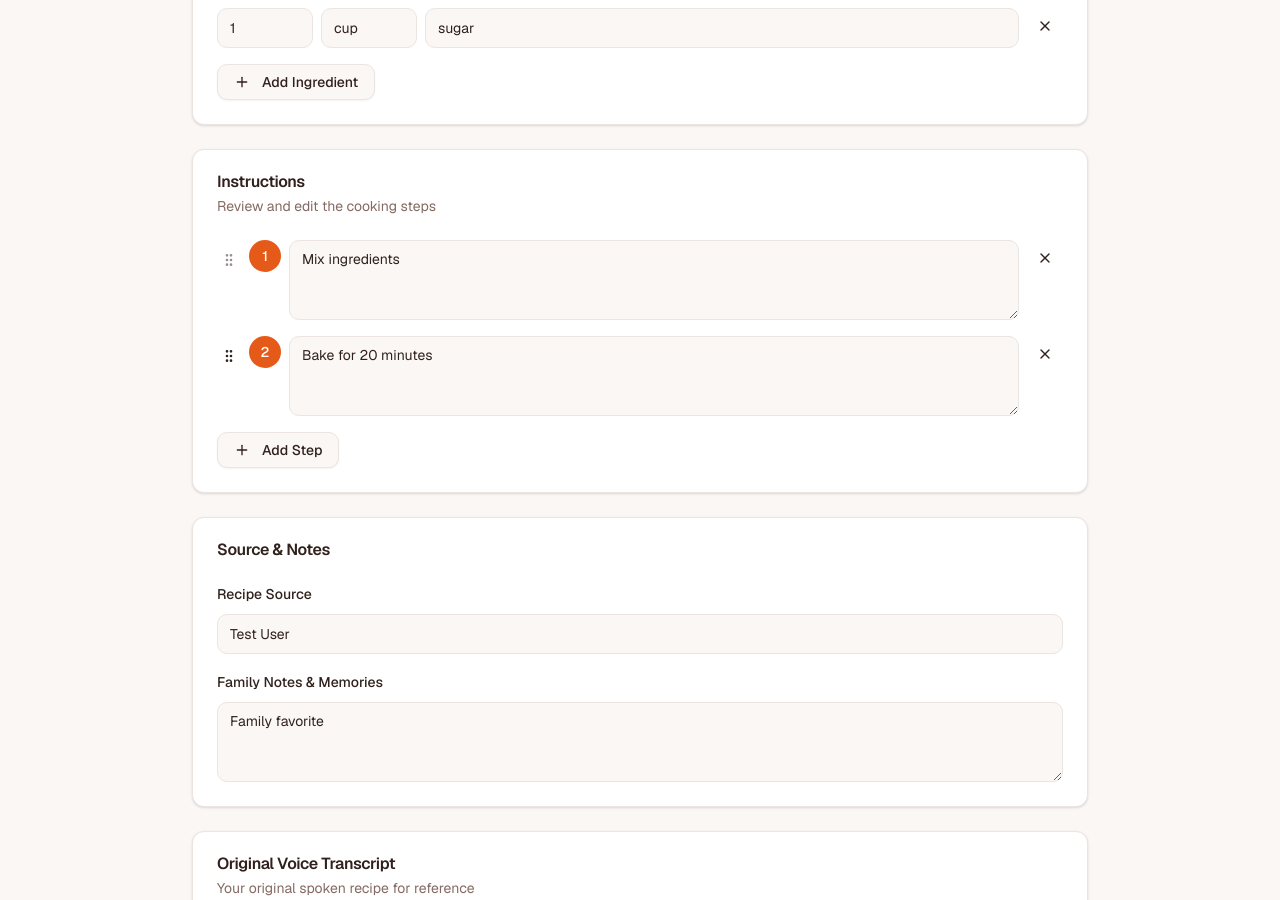
it: VoiceReviewForm › should add new instruction
(page scrolled)
Step 1. Click the button "Add Step" → (278, 450), box top-left (217, 432), bottom-right (340, 468)
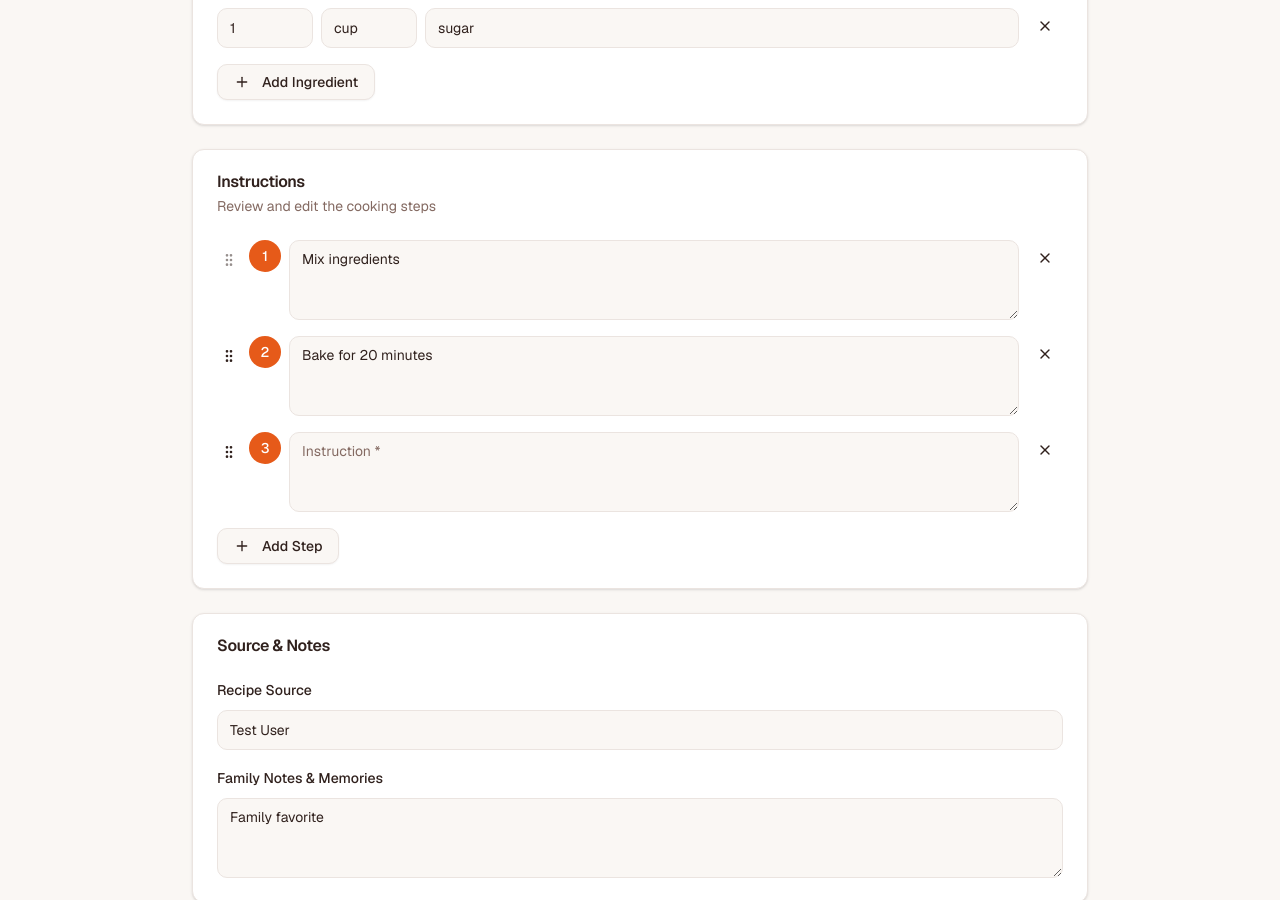
Result: the number of text boxes with placeholder "Instruction *" is 3 at top-left (289, 240), bottom-right (1019, 320); top-left (289, 336), bottom-right (1019, 416); top-left (289, 432), bottom-right (1019, 512)
